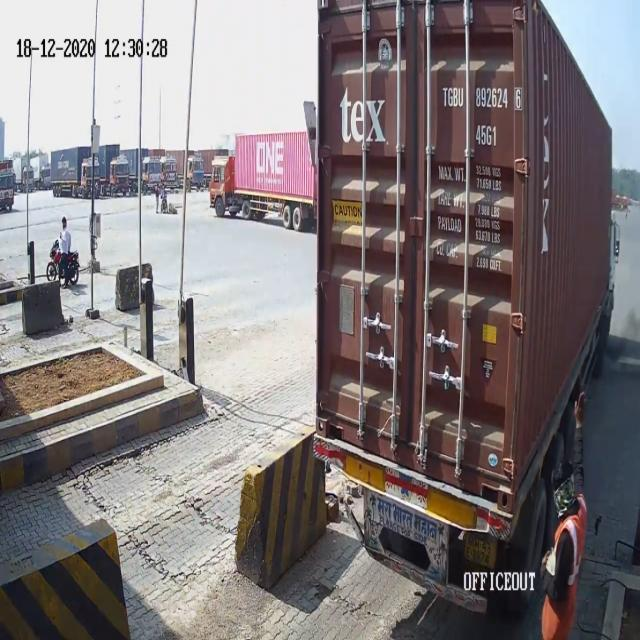container_number_h: (441, 82, 525, 147)
